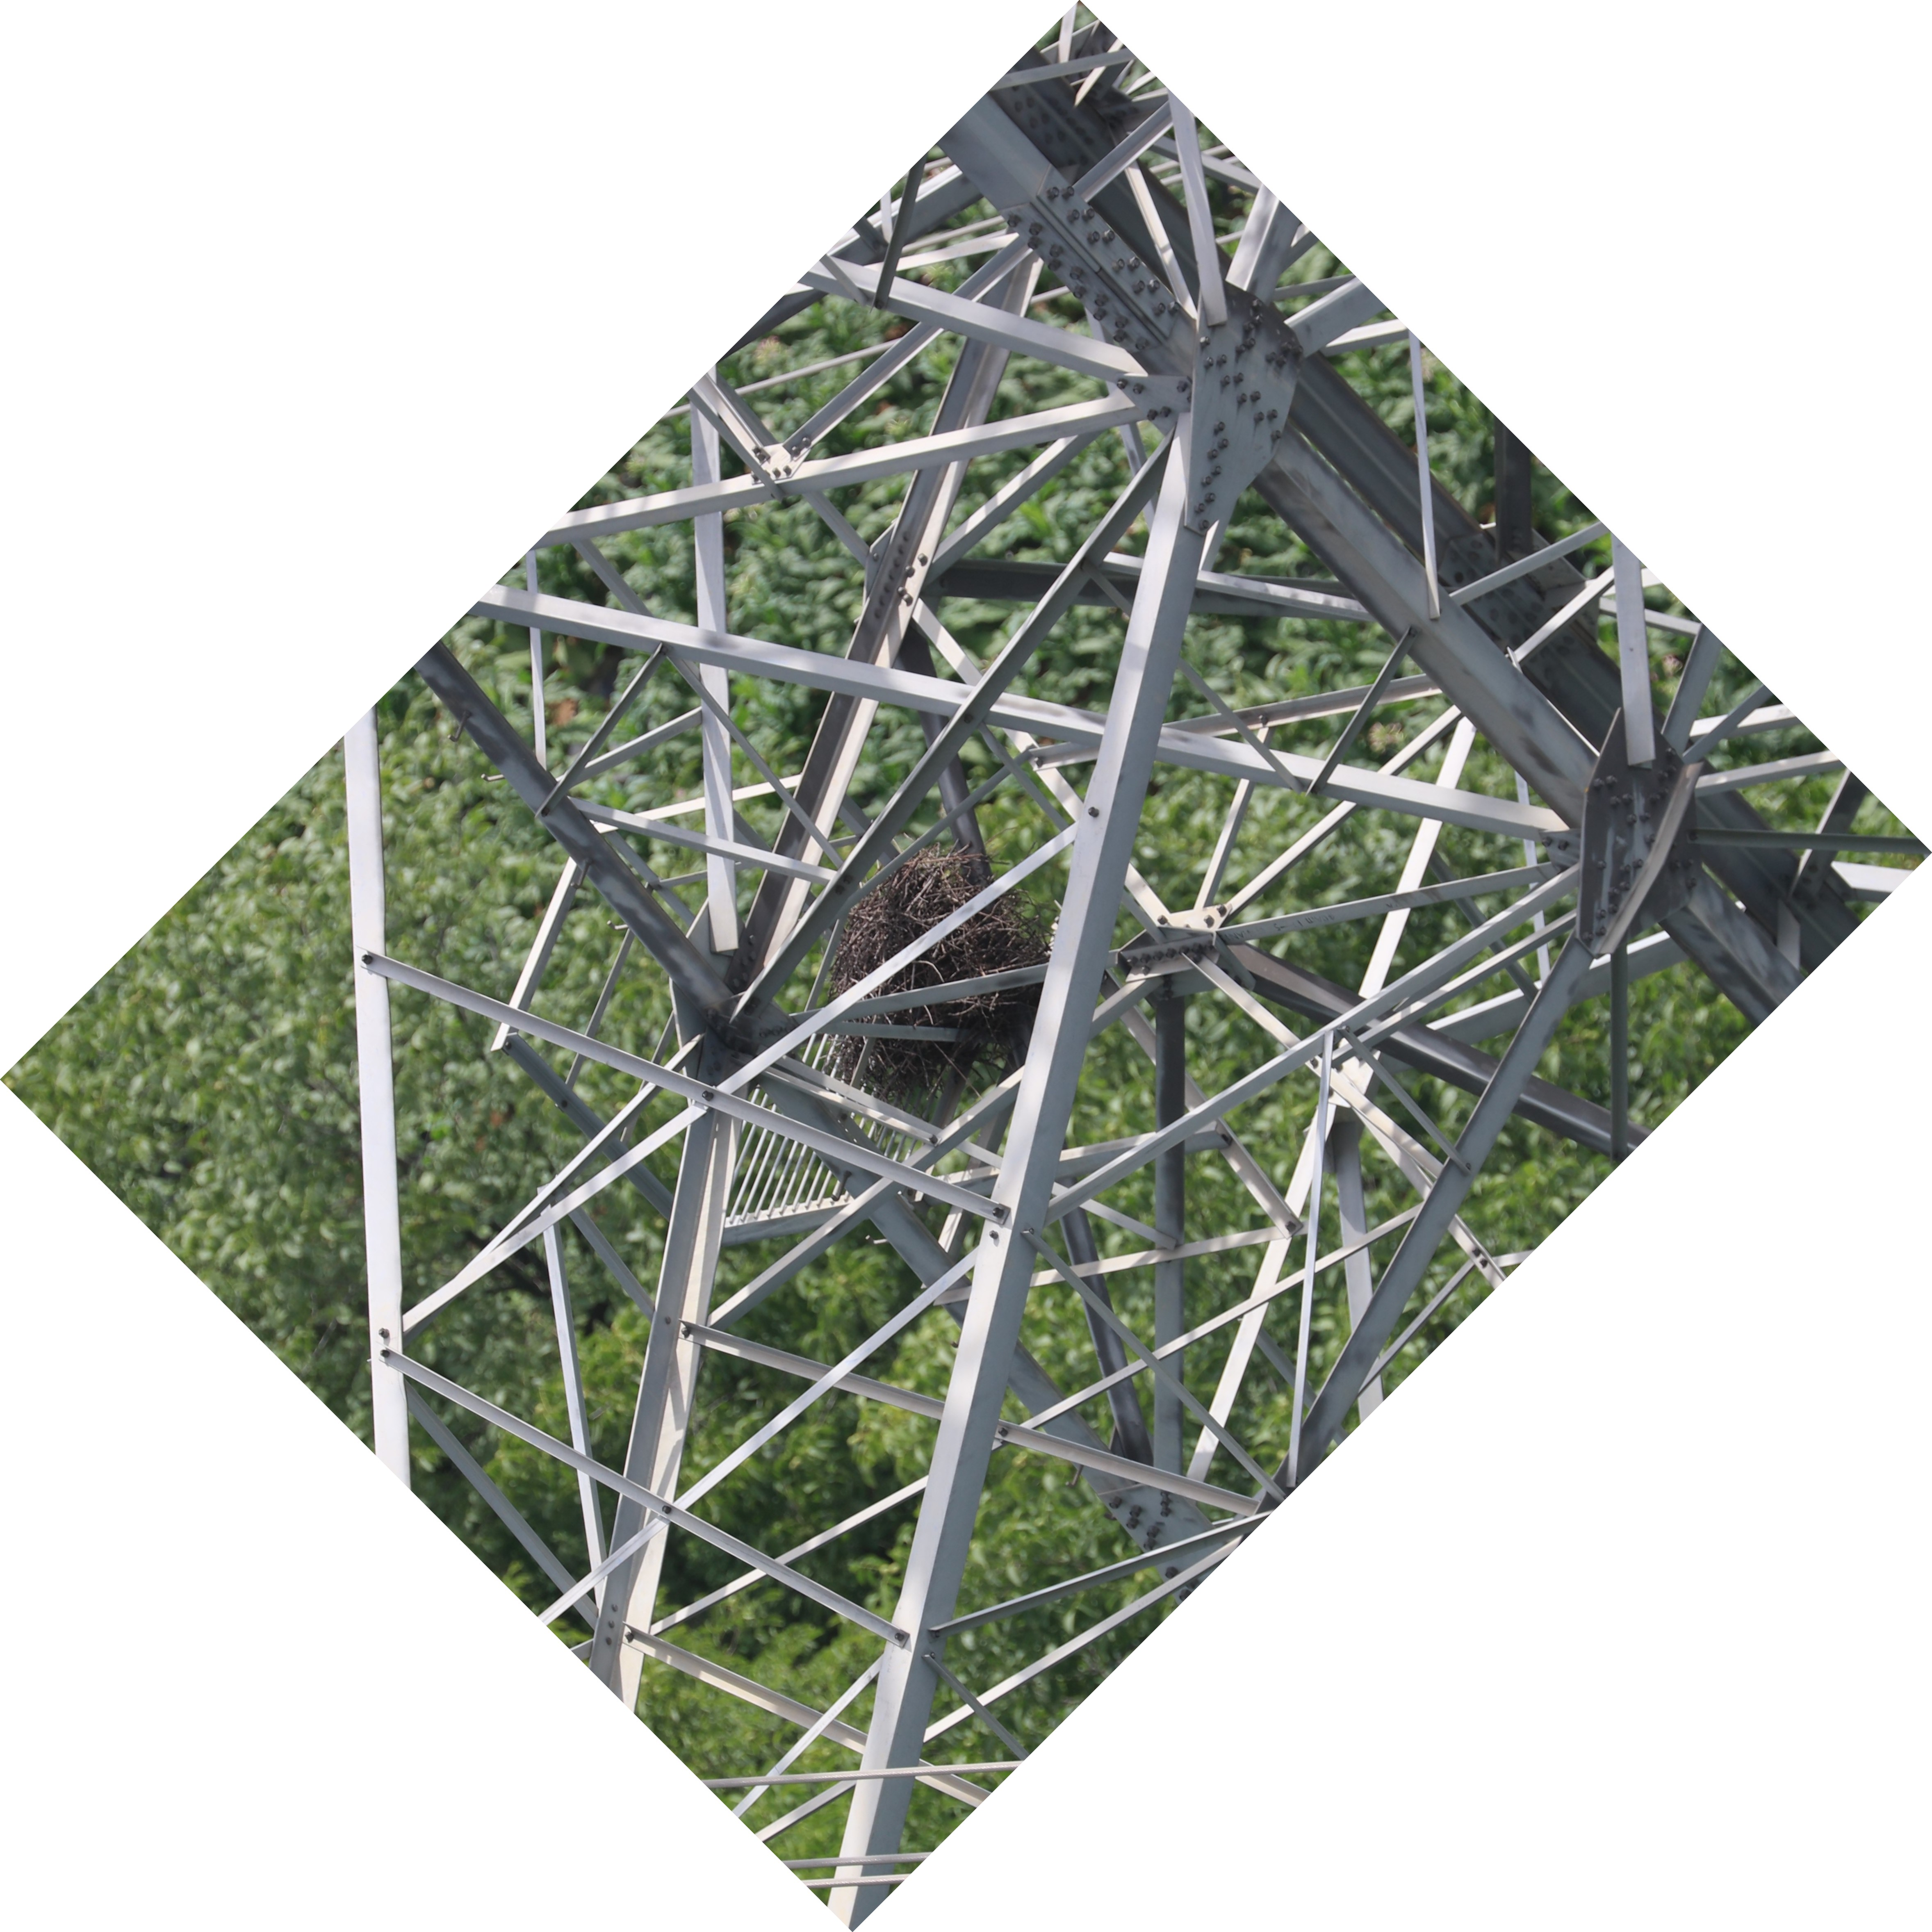niaowo: (794, 830, 1090, 1099)
